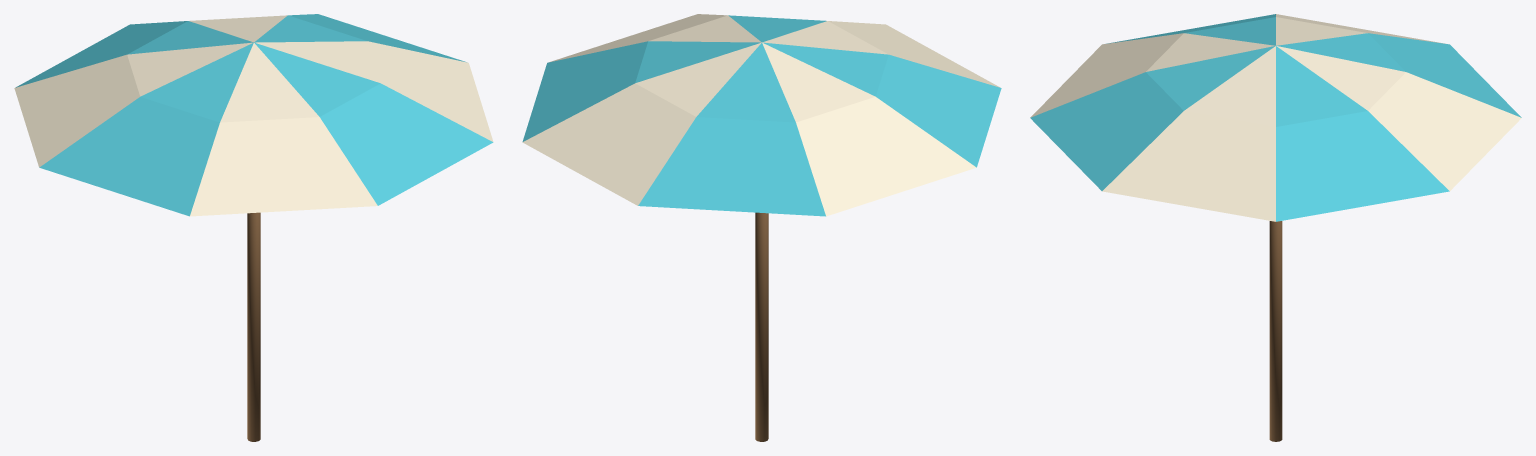
The model's file is BeachParasol.fbx.
3 renders of one model, left to right at view 1: azimuth 30°, elevation 25°; view 2: azimuth 150°, elevation 25°; view 3: azimuth 270°, elevation 25°, orthographic.
Visible parts, largest first — view 1: Parasol_Canvas.002, Parasol_Blue.002, Parasol_Blue.003, Parasol_Canvas.001, Parasol_Canvas.003, Parasol_Blue.001, Parasol_Wood, Parasol_Blue, Parasol_Canvas; view 2: Parasol_Blue.001, Parasol_Canvas.001, Parasol_Canvas, Parasol_Blue.002, Parasol_Blue, Parasol_Canvas.002, Parasol_Wood, Parasol_Canvas.003, Parasol_Blue.003; view 3: Parasol_Blue, Parasol_Canvas.003, Parasol_Blue.003, Parasol_Canvas, Parasol_Blue.001, Parasol_Canvas.002, Parasol_Wood, Parasol_Blue.002, Parasol_Canvas.001.
Part boxes in pixels (x1,y1,x2,y2): Parasol_Canvas.002: (190,43,377,216); Parasol_Blue.002: (39,42,253,216); Parasol_Blue.003: (254,42,493,205); Parasol_Canvas.001: (14,42,252,167); Parasol_Canvas.003: (255,41,493,141); Parasol_Blue.001: (15,21,253,87); Parasol_Wood: (247,212,260,441); Parasol_Blue: (254,14,466,62); Parasol_Canvas: (189,15,287,42); Parasol_Blue.001: (638,43,825,216); Parasol_Canvas.001: (762,42,976,216); Parasol_Canvas: (522,42,761,205); Parasol_Blue.002: (763,42,1001,167); Parasol_Blue: (522,41,760,141); Parasol_Canvas.002: (762,21,1000,87); Parasol_Wood: (755,212,768,441); Parasol_Canvas.003: (549,14,761,62); Parasol_Blue.003: (728,15,826,42); Parasol_Blue: (1276,46,1449,221); Parasol_Canvas.003: (1102,46,1275,221); Parasol_Blue.003: (1030,46,1275,190); Parasol_Canvas: (1276,46,1521,190); Parasol_Blue.001: (1276,33,1521,117); Parasol_Canvas.002: (1030,33,1275,117); Parasol_Wood: (1269,221,1282,441); Parasol_Blue.002: (1106,14,1275,45); Parasol_Canvas.001: (1276,14,1445,45).
Bounding box in the file's own units: 340 × 300 × 340.
